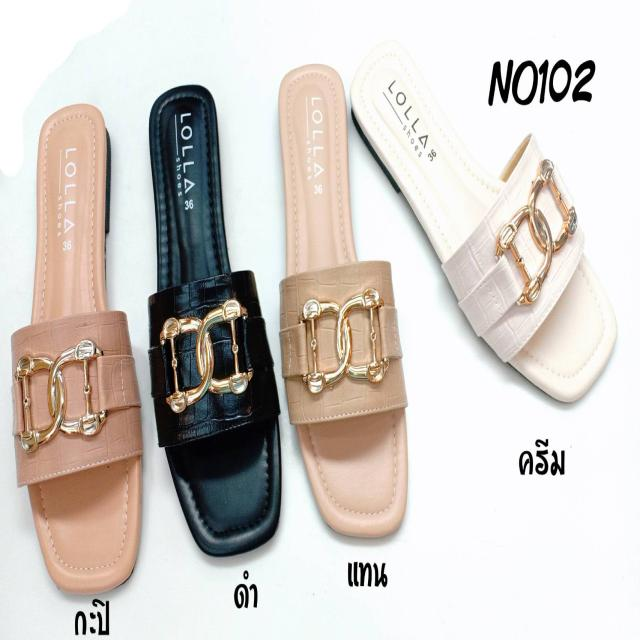black: (148, 75, 280, 556)
kapi: (17, 98, 141, 599)
tan: (274, 80, 408, 532)
white: (360, 48, 612, 401)
